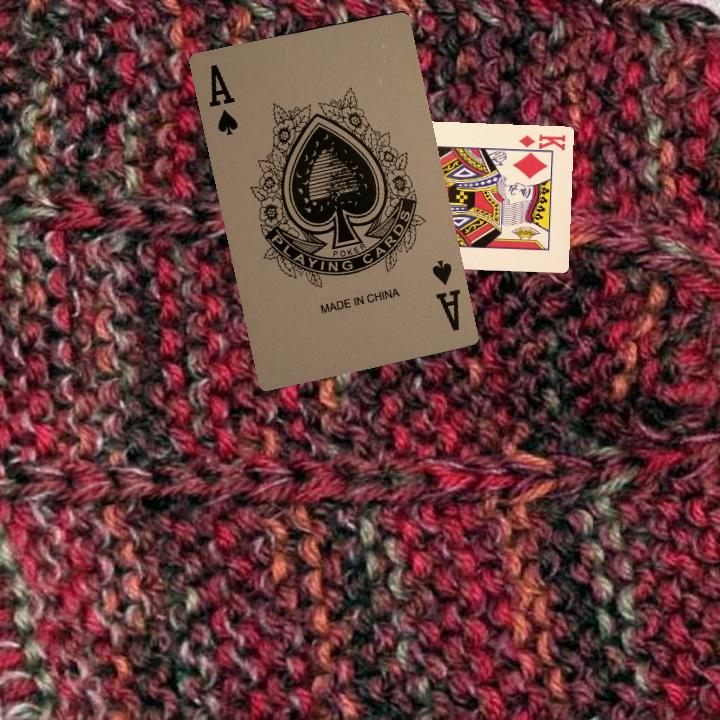As: (204, 60, 241, 138), (427, 257, 463, 334)
Kd: (510, 130, 568, 154)
